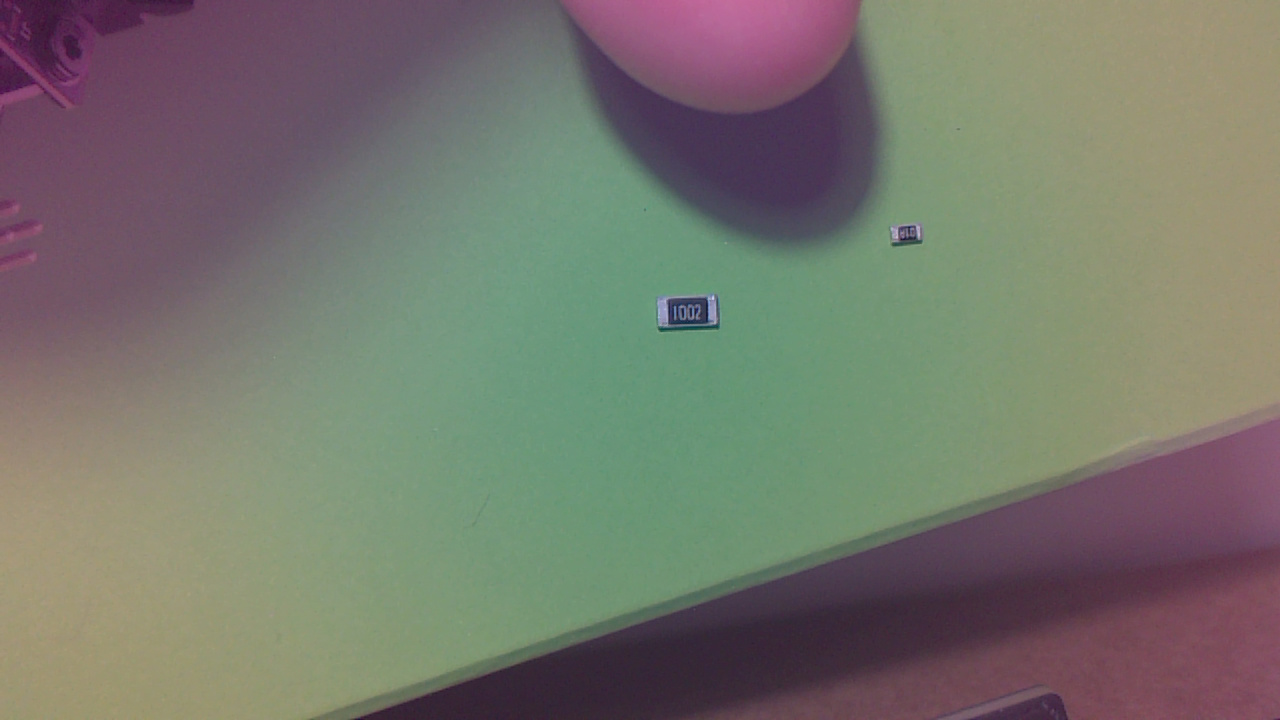Resistor: (659, 298, 727, 337), (896, 228, 927, 251)
